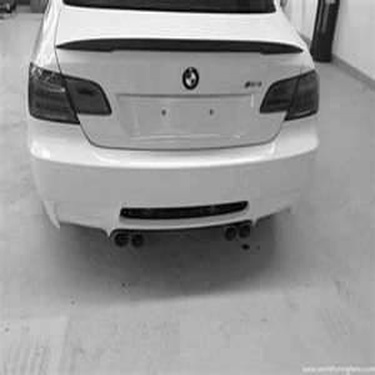car: (17, 1, 336, 249)
